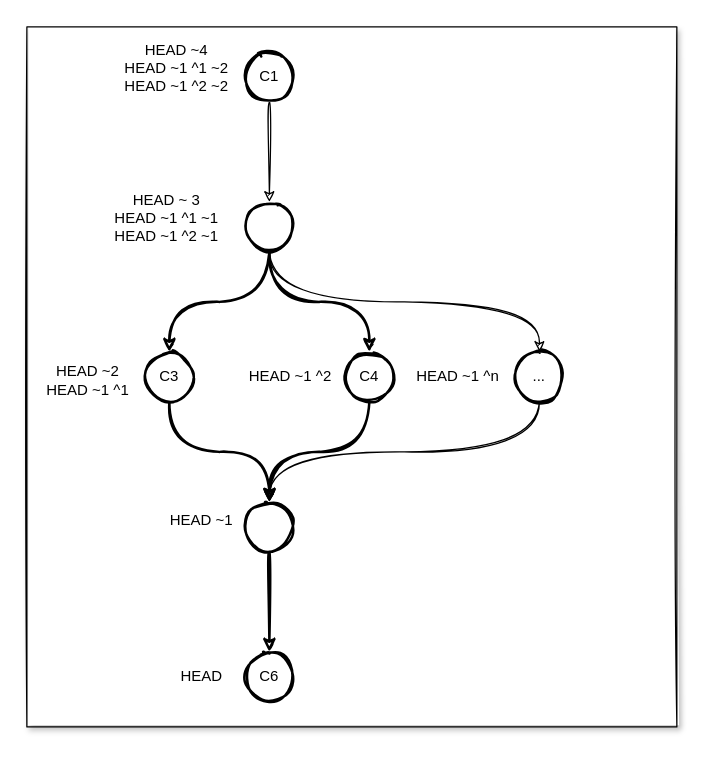
Some shapes in this 706 by 758 pixel diagram are drawn without their labels. The centre of each missing label's shape, as x and y in pixels:
C2: the point at 268,226
C5: the point at 268,526
